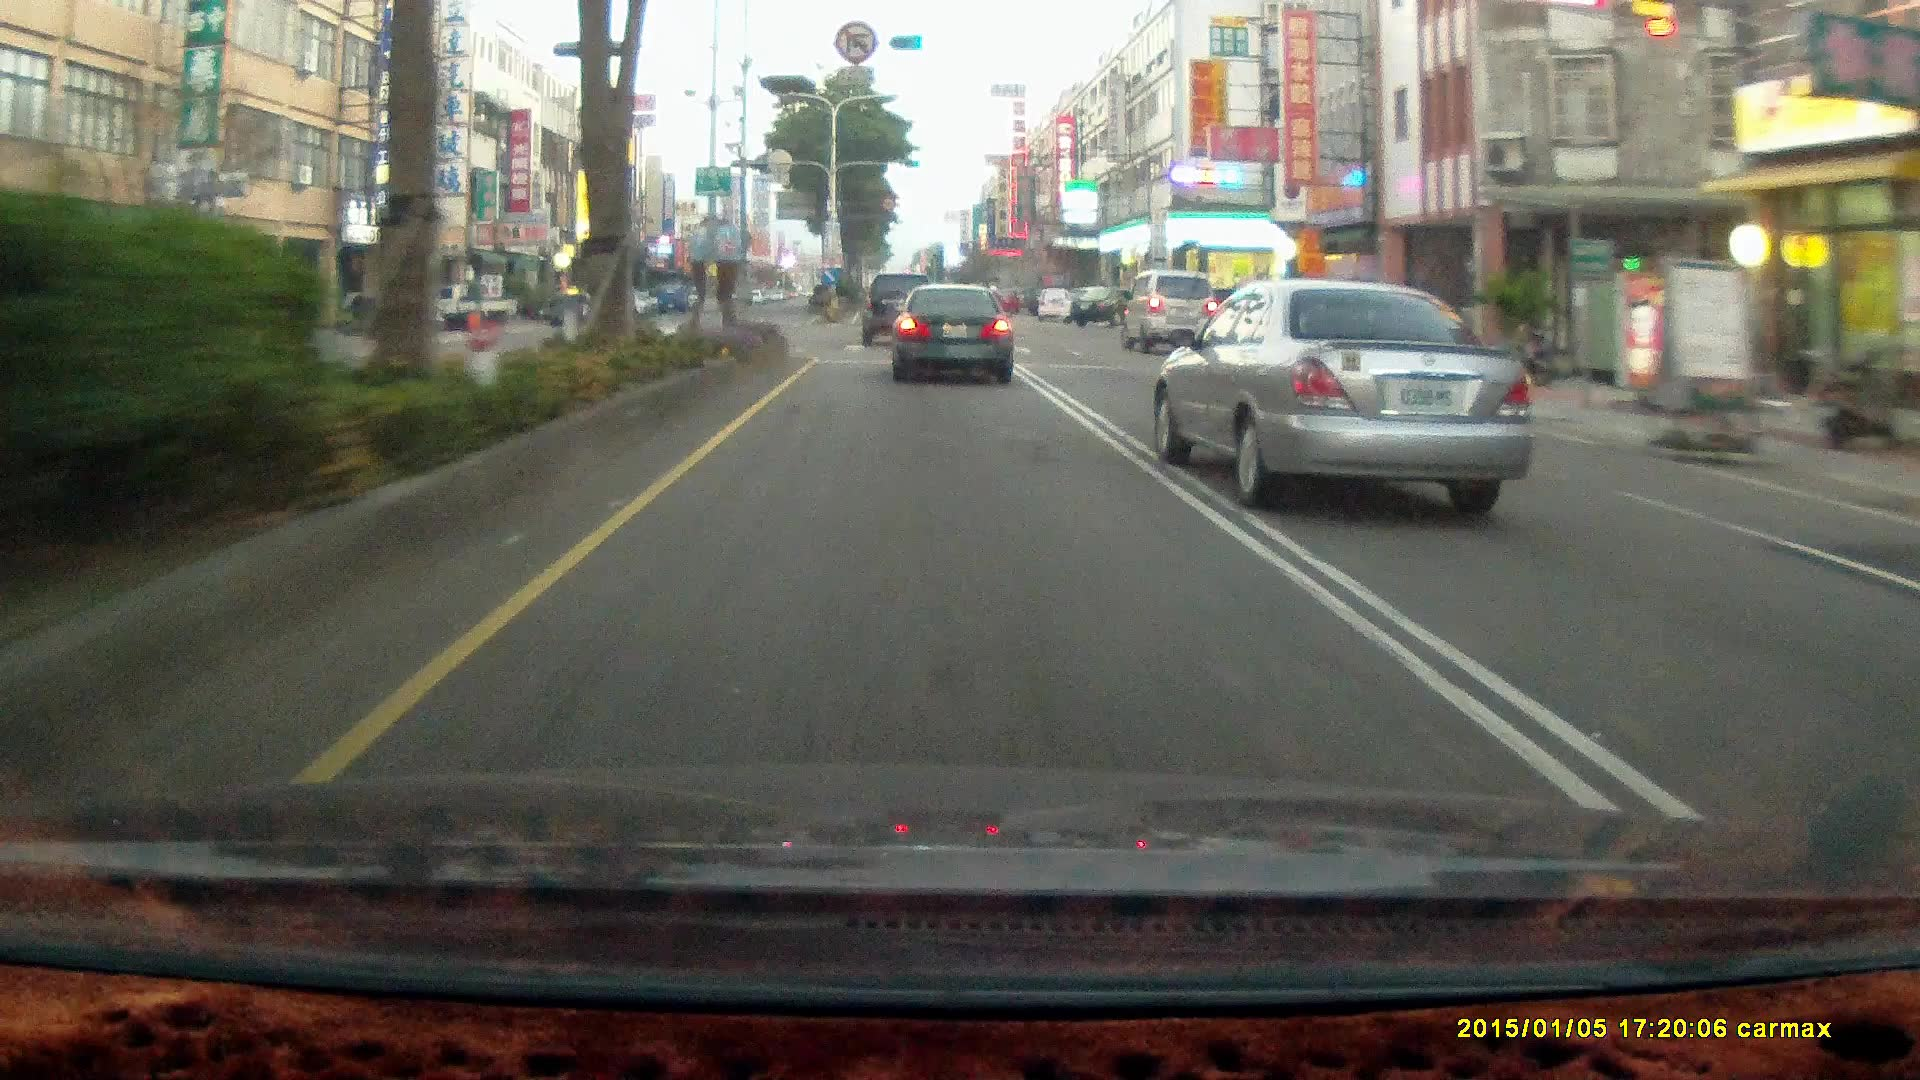vehicle: (1158, 282, 1548, 512), (895, 284, 1017, 386), (891, 284, 1011, 385), (1121, 269, 1217, 357), (1121, 268, 1216, 356), (861, 272, 940, 349), (861, 272, 938, 344), (427, 280, 517, 328), (1071, 284, 1142, 324), (1035, 286, 1075, 319)
